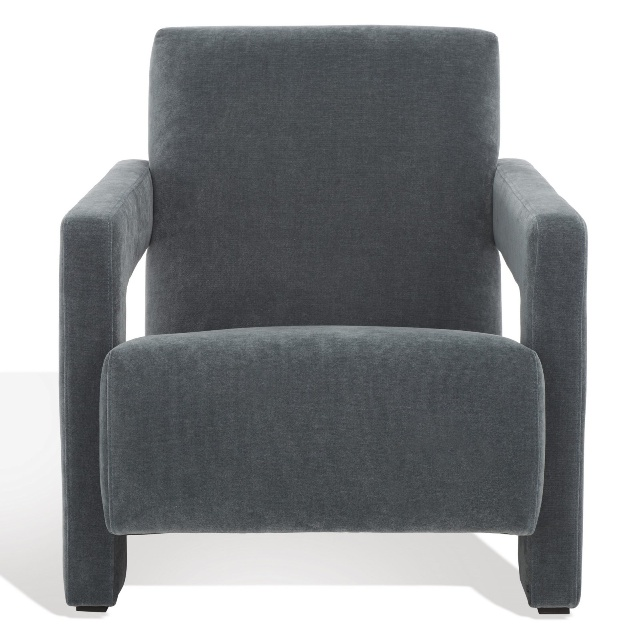obstacle: (60, 27, 586, 613)
